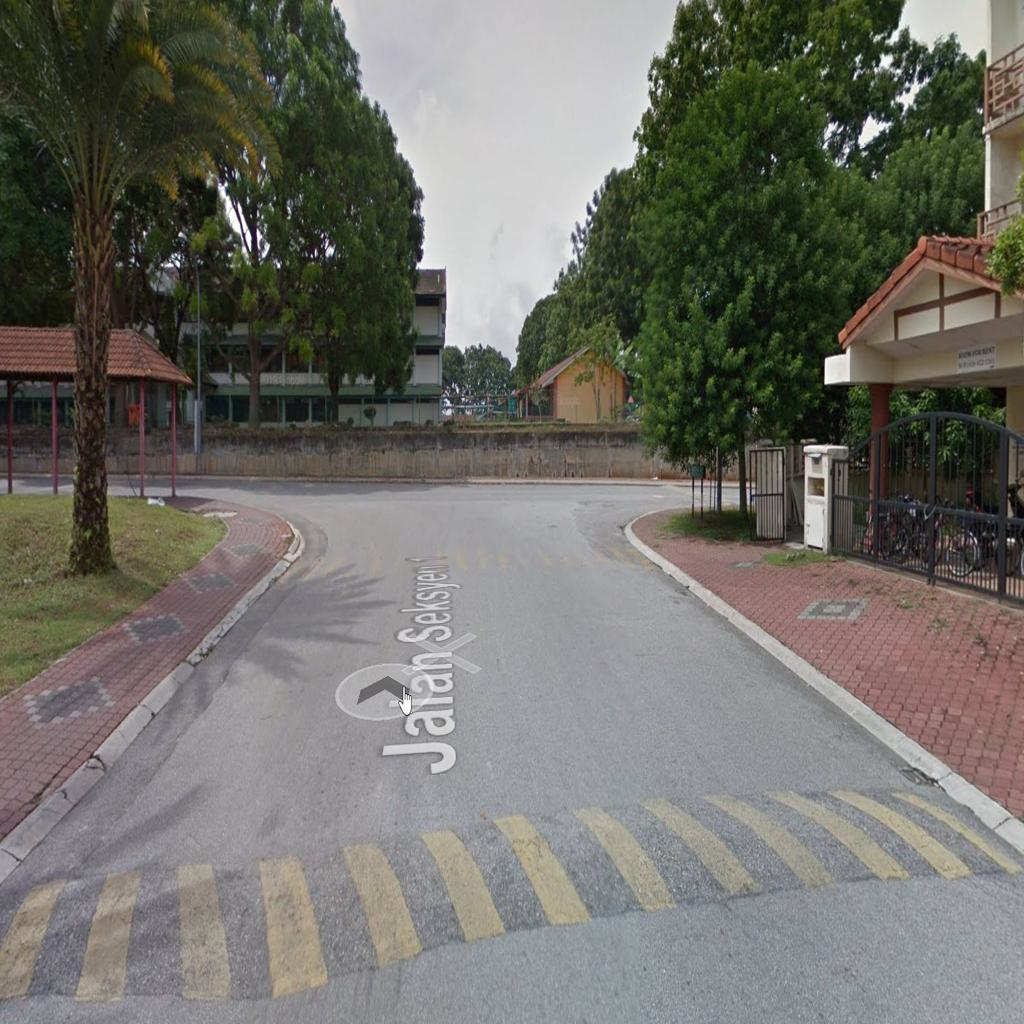Junction: (111, 403, 369, 568), (578, 441, 747, 537)
